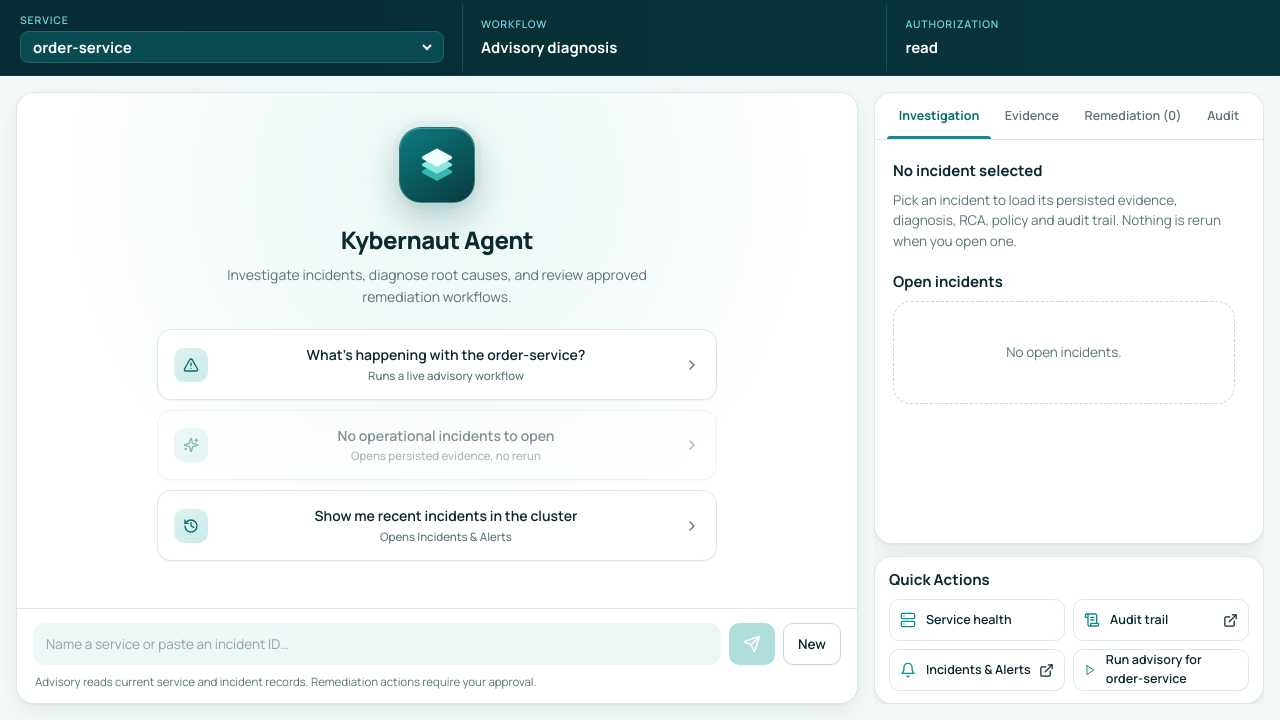
Scenario: Console natural-language queries › reports the highest P95 service and states when other services are unavailable
Type "Which service currently has the highest P95 latency?" into the text box named "Ask Kybernaut" at point(377, 644), box [33, 623, 721, 665]
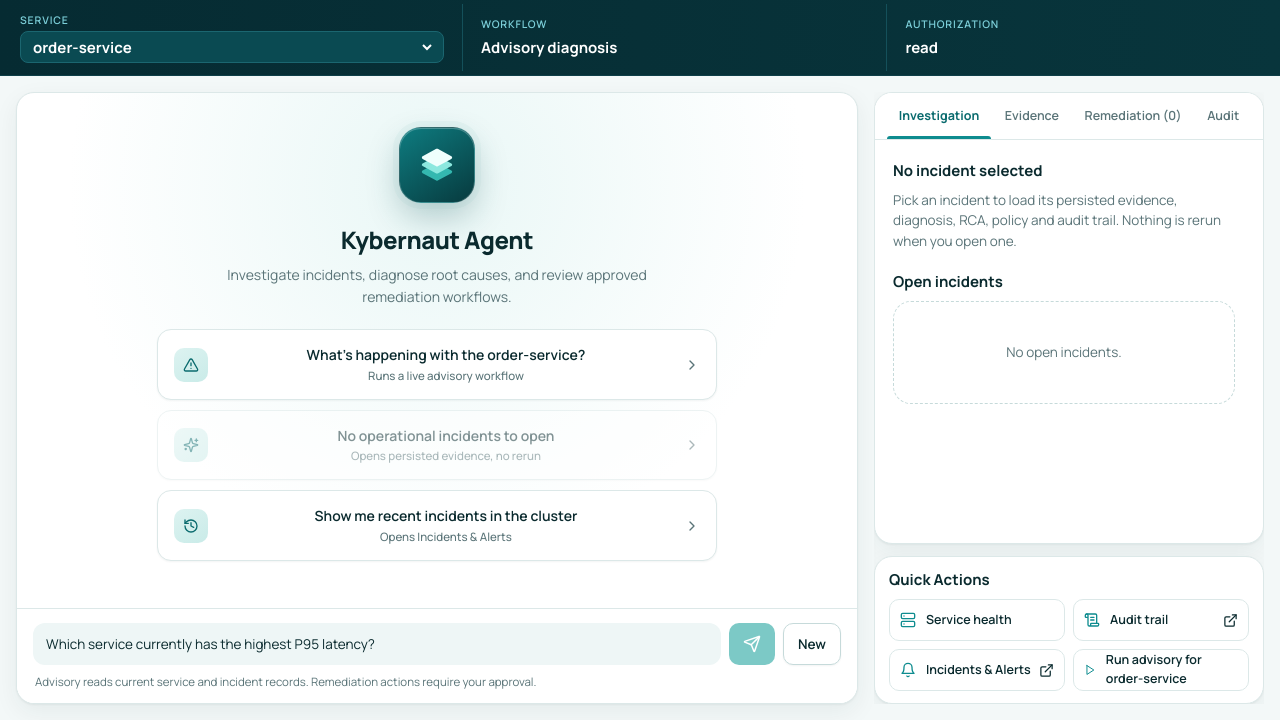
Click the button named "Send" at point(752, 644), box [729, 623, 775, 665]
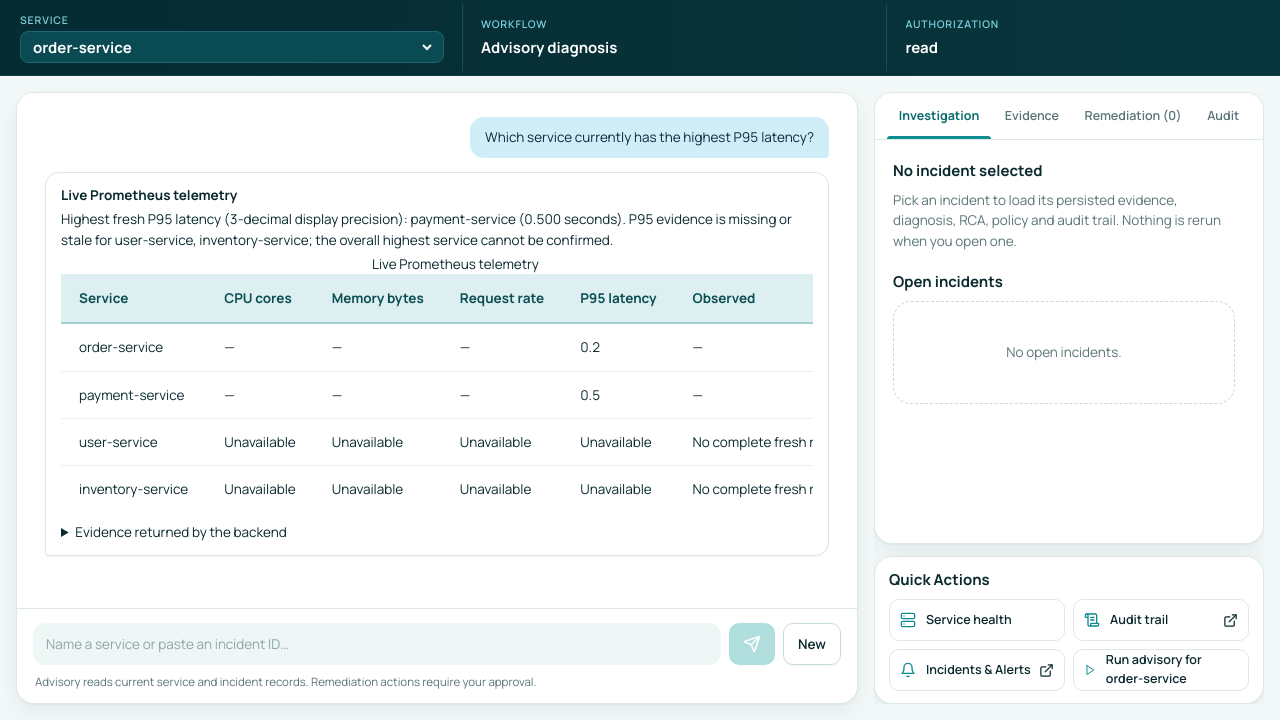
Expected: the text "overall highest service cannot be confirmed" is shown, [61, 210, 795, 249]
